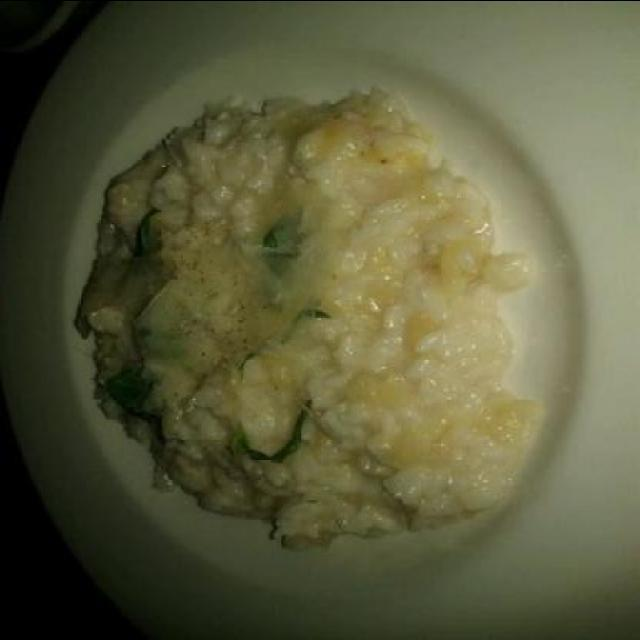Risotto: (68, 79, 517, 558)
